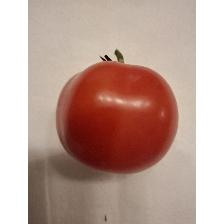Tomate: (51, 45, 183, 177)
